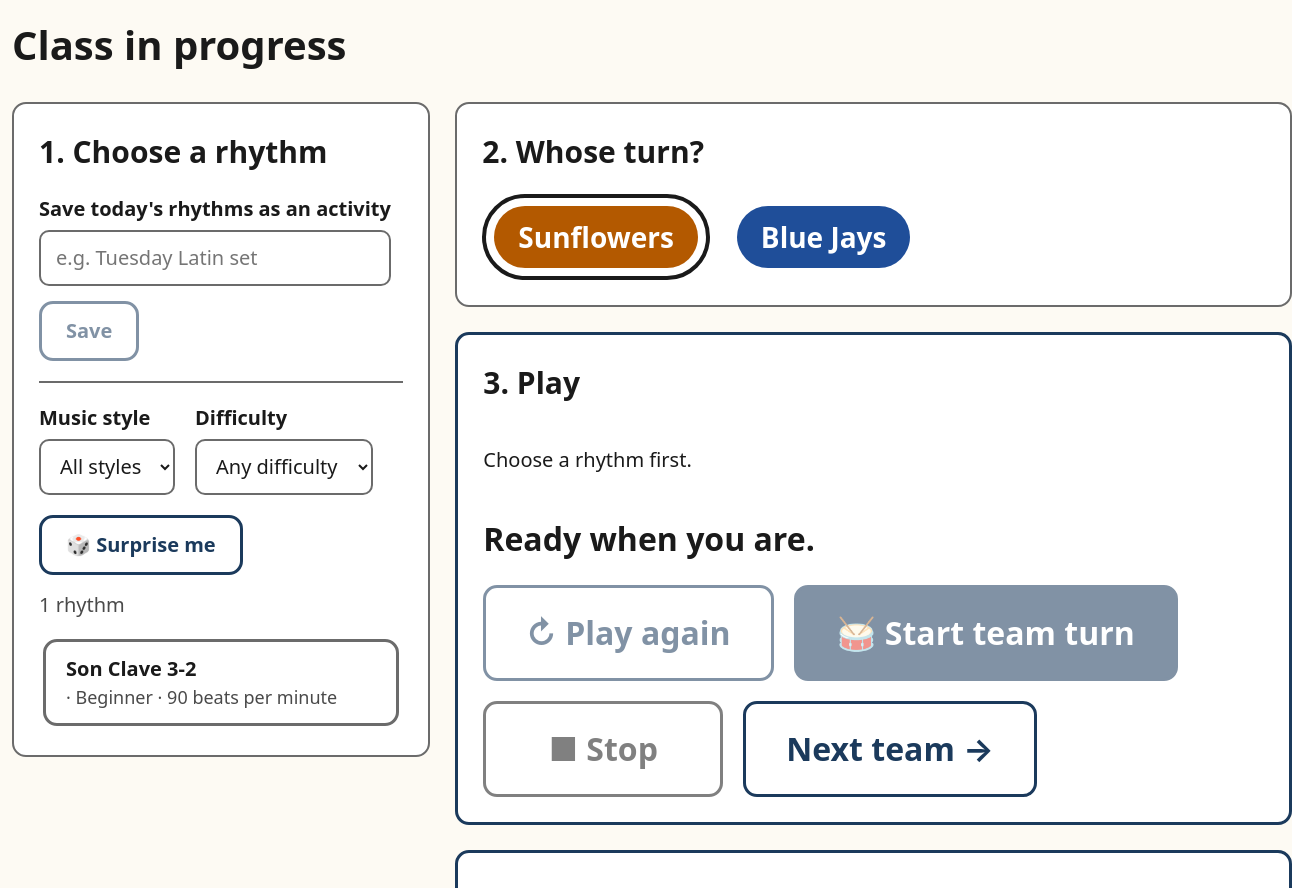
starting a new turn hides the previous team's score until the new one arrives
Step 1. Click the button "Son Clave 3-2 · Beginner · 90 beats per minute" → {"x": 221, "y": 682}, box [43,639,399,726]
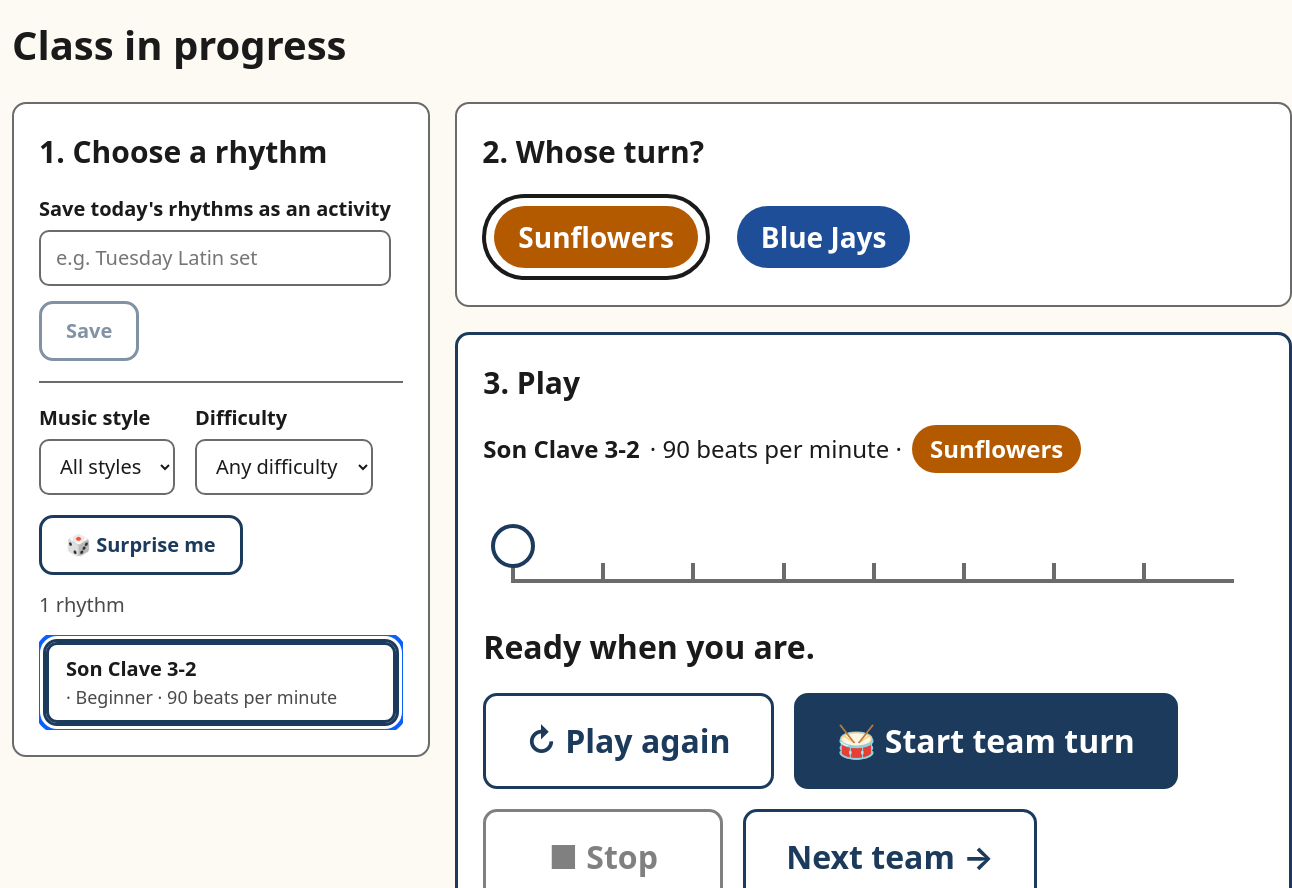
Step 2. Click the button "🥁 Start team turn" → {"x": 986, "y": 741}, box [794,693,1178,789]
(page scrolled)
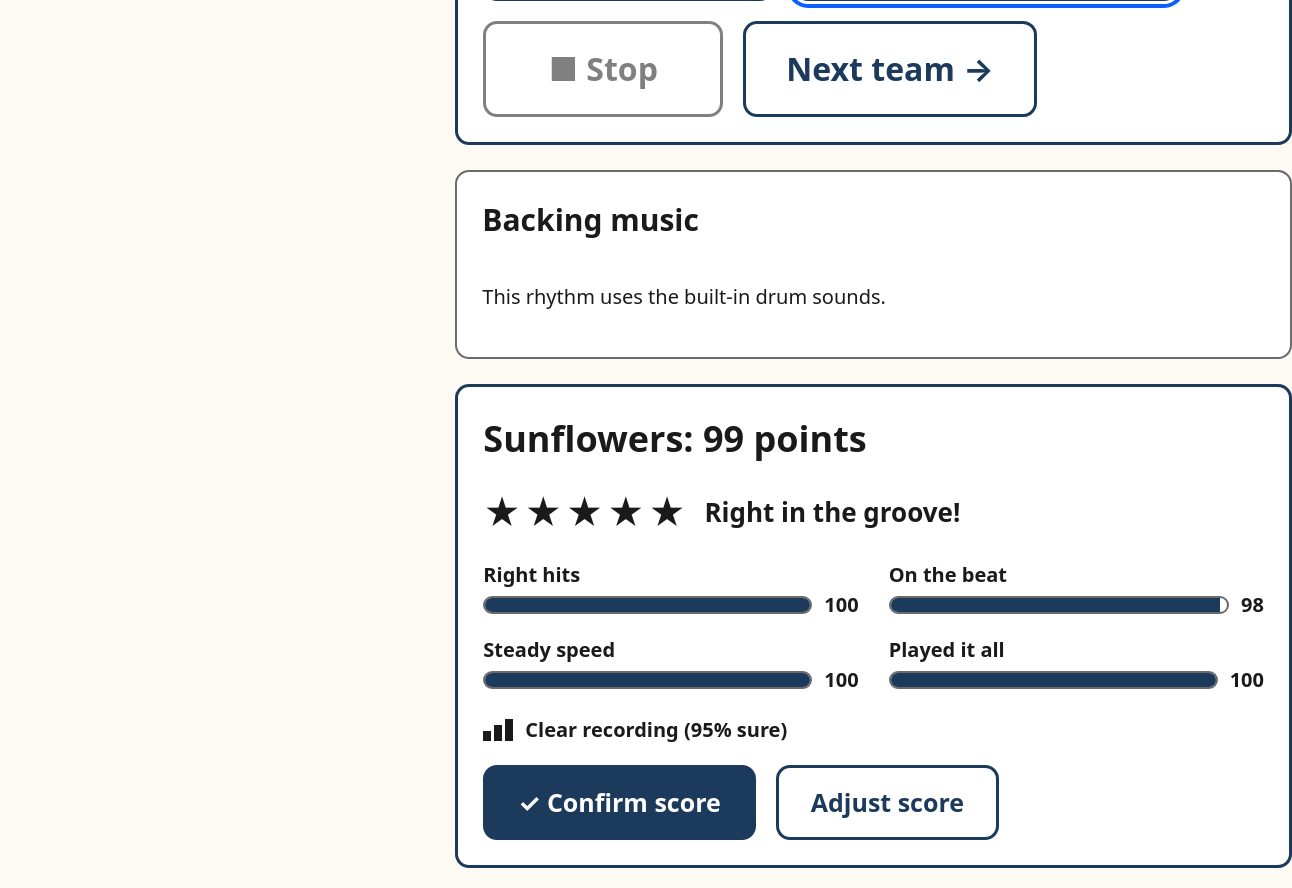
Now the heading "Sunflowers: 99 points" is shown, box [483,414,867,463]
